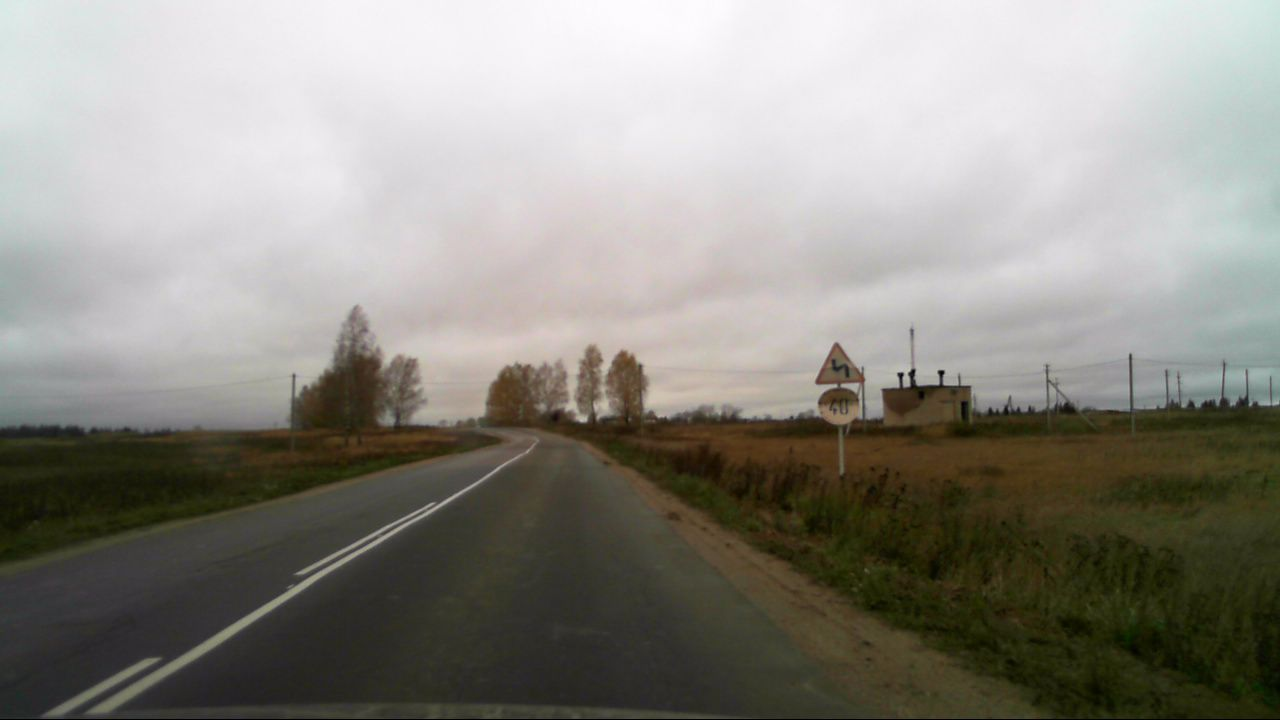speed_warning_40: (818, 386, 862, 425)
